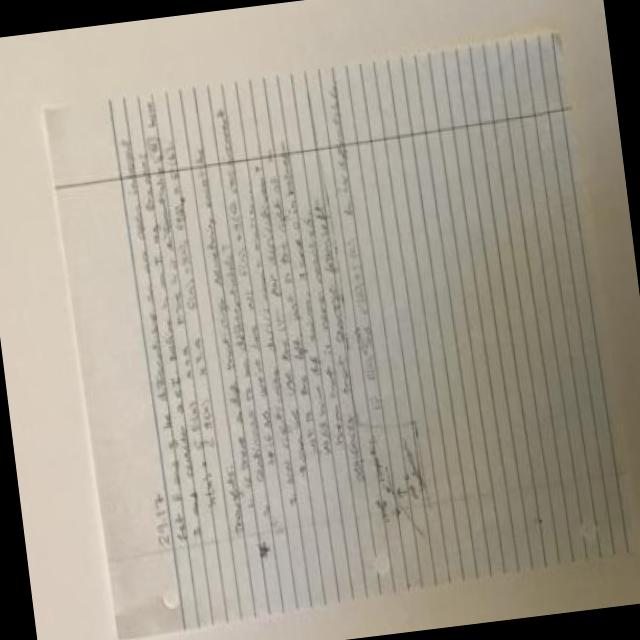giay: (42, 33, 628, 637)
